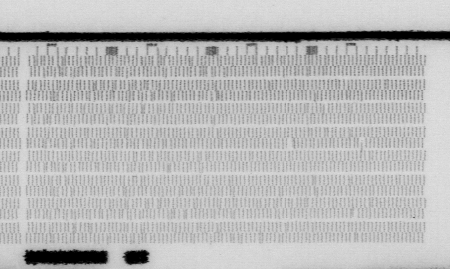Broken hole: (285, 138, 298, 152)
Oblique printing: (25, 102, 186, 246), (28, 55, 233, 104), (187, 168, 248, 244), (236, 77, 371, 103), (303, 100, 326, 126), (347, 222, 367, 245), (269, 185, 287, 209), (307, 172, 320, 197), (211, 126, 225, 149), (355, 137, 370, 154), (251, 232, 267, 245), (378, 78, 391, 92), (349, 206, 362, 219), (278, 220, 291, 232)
